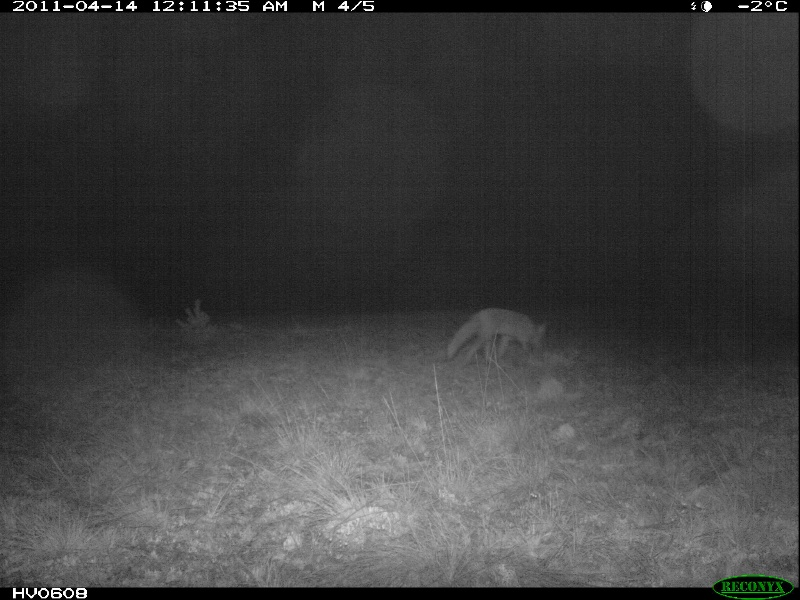fox: (441, 305, 551, 373)
